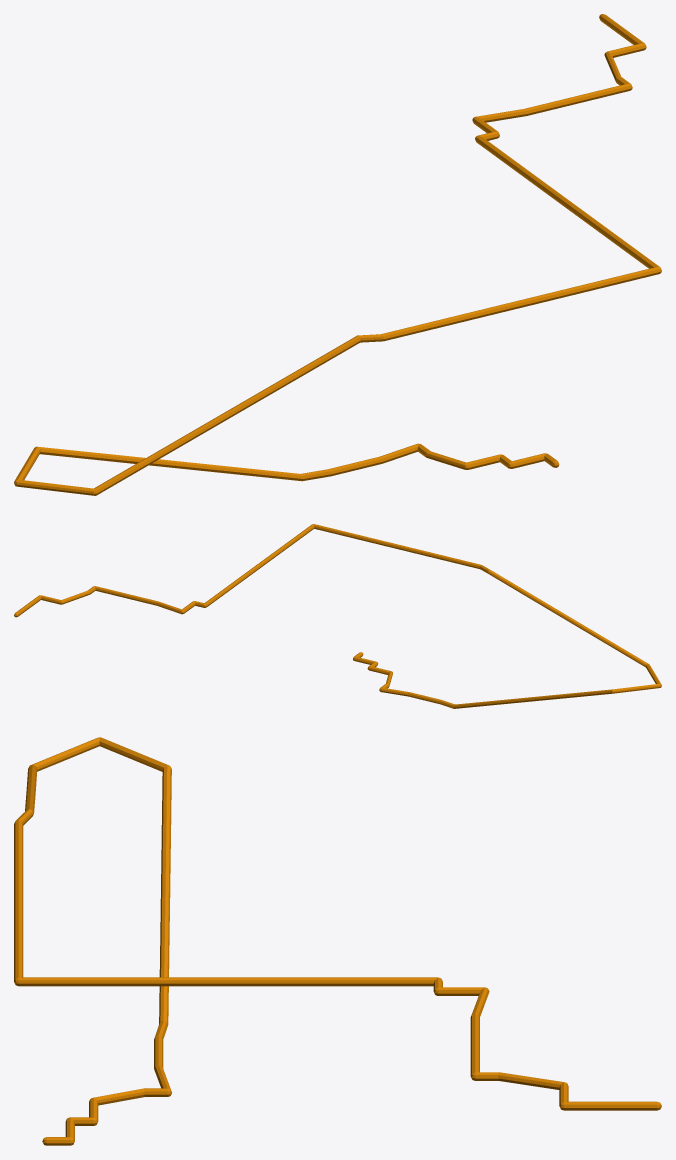
3 renders of one model, top to bottom at view 1: azimuth 30°, elevation 25°; view 2: azimuth 150°, elevation 25°; view 3: azimuth 270°, elevation 25°, orthographic. The views are drawn at different scales.
Bounding box in the file's own units: 2406 × 520 × 1390.
